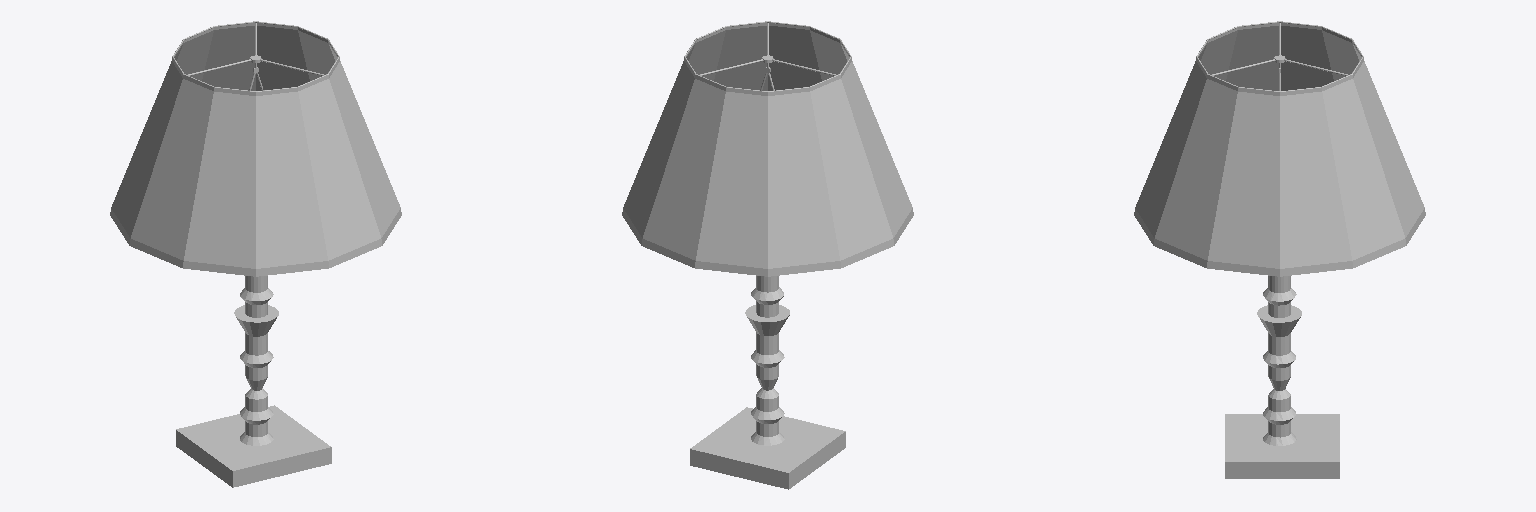
File: deskLamp1.obj
The picture shows the model from 3 angles: view 1: azimuth 30°, elevation 25°; view 2: azimuth 150°, elevation 25°; view 3: azimuth 270°, elevation 25°; orthographic projection.
Visible parts, largest first — view 1: Object01616_2_2, Object013236_4_4, Object01_1_1; view 2: Object01616_2_2, Object013236_4_4, Object01_1_1; view 3: Object01616_2_2, Object013236_4_4, Object01_1_1.
Boxes of the visible parts, x1=… form: Object01616_2_2: x1=110, y1=21, x2=401, y2=276; Object013236_4_4: x1=176, y1=405, x2=331, y2=487; Object01_1_1: x1=234, y1=276, x2=278, y2=445; Object01616_2_2: x1=622, y1=21, x2=913, y2=276; Object013236_4_4: x1=690, y1=407, x2=845, y2=489; Object01_1_1: x1=745, y1=276, x2=789, y2=445; Object01616_2_2: x1=1134, y1=21, x2=1425, y2=276; Object013236_4_4: x1=1225, y1=414, x2=1339, y2=478; Object01_1_1: x1=1257, y1=276, x2=1301, y2=445.
Bounding box in the file's own units: 40.6 × 61.24 × 40.6.